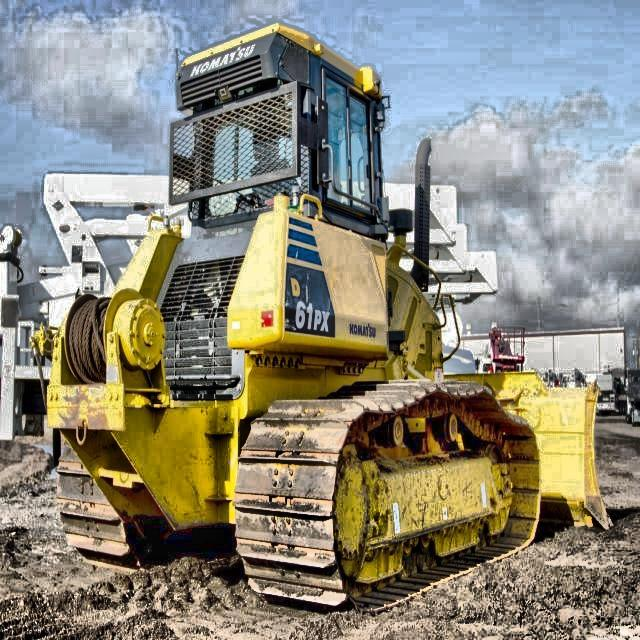bull_dozer/loader/grader: (45, 19, 620, 602)
